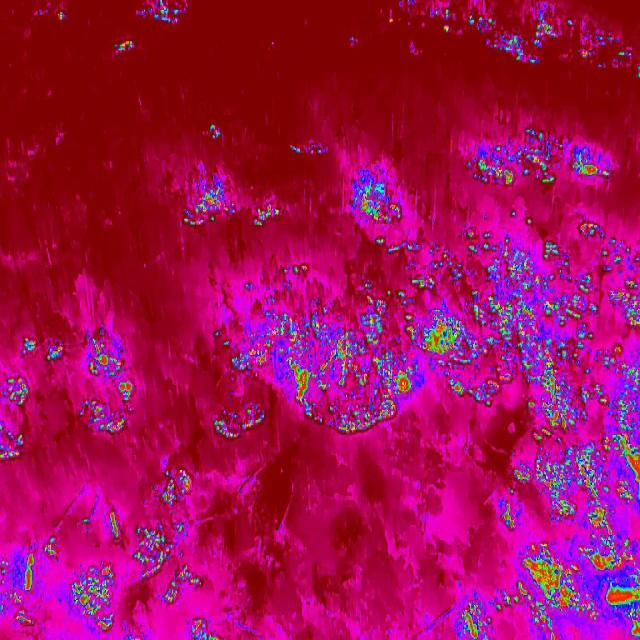fire: (214, 206, 640, 440), (0, 507, 219, 640), (497, 439, 640, 639), (384, 0, 640, 72), (464, 124, 619, 188), (178, 171, 285, 237), (17, 333, 126, 381), (348, 166, 412, 232), (76, 376, 132, 436), (0, 361, 30, 464), (450, 591, 500, 640), (158, 459, 192, 508), (138, 0, 180, 29), (282, 136, 326, 159), (106, 31, 138, 60)
